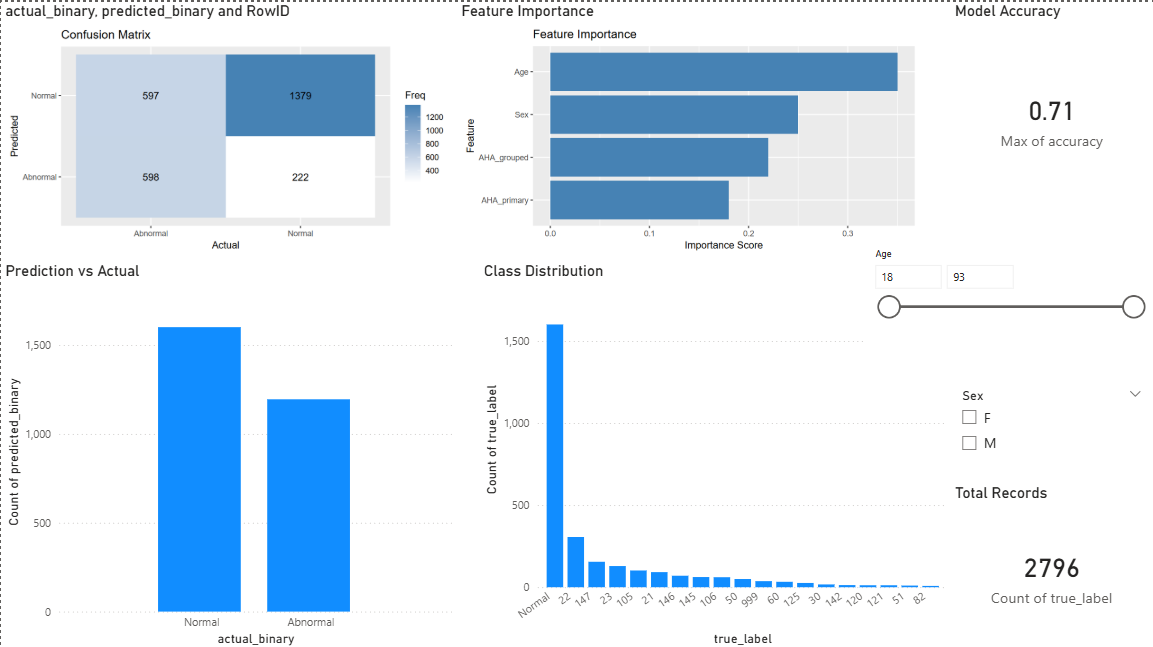

The page's visual inventory and layout, read from the dashboard file:
{"tool":"powerbi","page":{"name":"Page 1","canvas":[1280,720],"ordinal":0},"visuals":[{"type":"clusteredColumnChart","title":"Class Distribution","fields":{"Category":["ecg_results.true_label"],"Y":["CountNonNull(ecg_results.true_label)"]},"box":[531.6,287.7,524.6,431.6],"z":0},{"type":"slicer","fields":{"Values":["ecg_results.Sex"]},"box":[1055.7,422.9,224.3,161.4],"z":1000},{"type":"clusteredColumnChart","title":"Prediction vs Actual","fields":{"Category":["ecg_results.actual_binary"],"Y":["CountNonNull(ecg_results.predicted_binary)"]},"box":[0,288.3,506.7,431.7],"z":2000},{"type":"card","title":"Model Accuracy","fields":{"Values":["Max(model_metrics.accuracy)"]},"box":[1055.7,0,224.3,238.6],"z":3000},{"type":"scriptVisual","title":"Feature Importance","fields":{"Values":["ecg_results.Age","ecg_results.AHA_grouped","ecg_results.AHA_primary","ecg_results.Sex"]},"box":[507,0,519.3,287.7],"z":5000},{"type":"slicer","fields":{"Values":["ecg_results.Age"]},"box":[958.6,268.6,321.4,120],"z":6000},{"type":"card","title":"Total Records","fields":{"Values":["CountNonNull(ecg_results.true_label)"]},"box":[1055.7,534.3,224.3,184.3],"z":7000},{"type":"scriptVisual","fields":{"Values":["ecg_results.actual_binary","ecg_results.predicted_binary","ecg_results.RowID"]},"box":[0,0,507,288],"z":7001}]}

Visuals, with their boxes in screenshot pixels (x1, y1, x2, y2), scaled from the page's 1280x720 canvas onto the 1153x647 screenshot:
"Class Distribution" clusteredColumnChart: 479,259,951,646
slicer - ecg_results.Sex: 951,380,1152,525
"Prediction vs Actual" clusteredColumnChart: 0,259,456,646
"Model Accuracy" card: 951,0,1152,214
"Feature Importance" scriptVisual: 457,0,924,259
slicer - ecg_results.Age: 863,241,1152,349
"Total Records" card: 951,480,1152,646
scriptVisual - ecg_results.actual_binary x ecg_results.predicted_binary: 0,0,457,259
